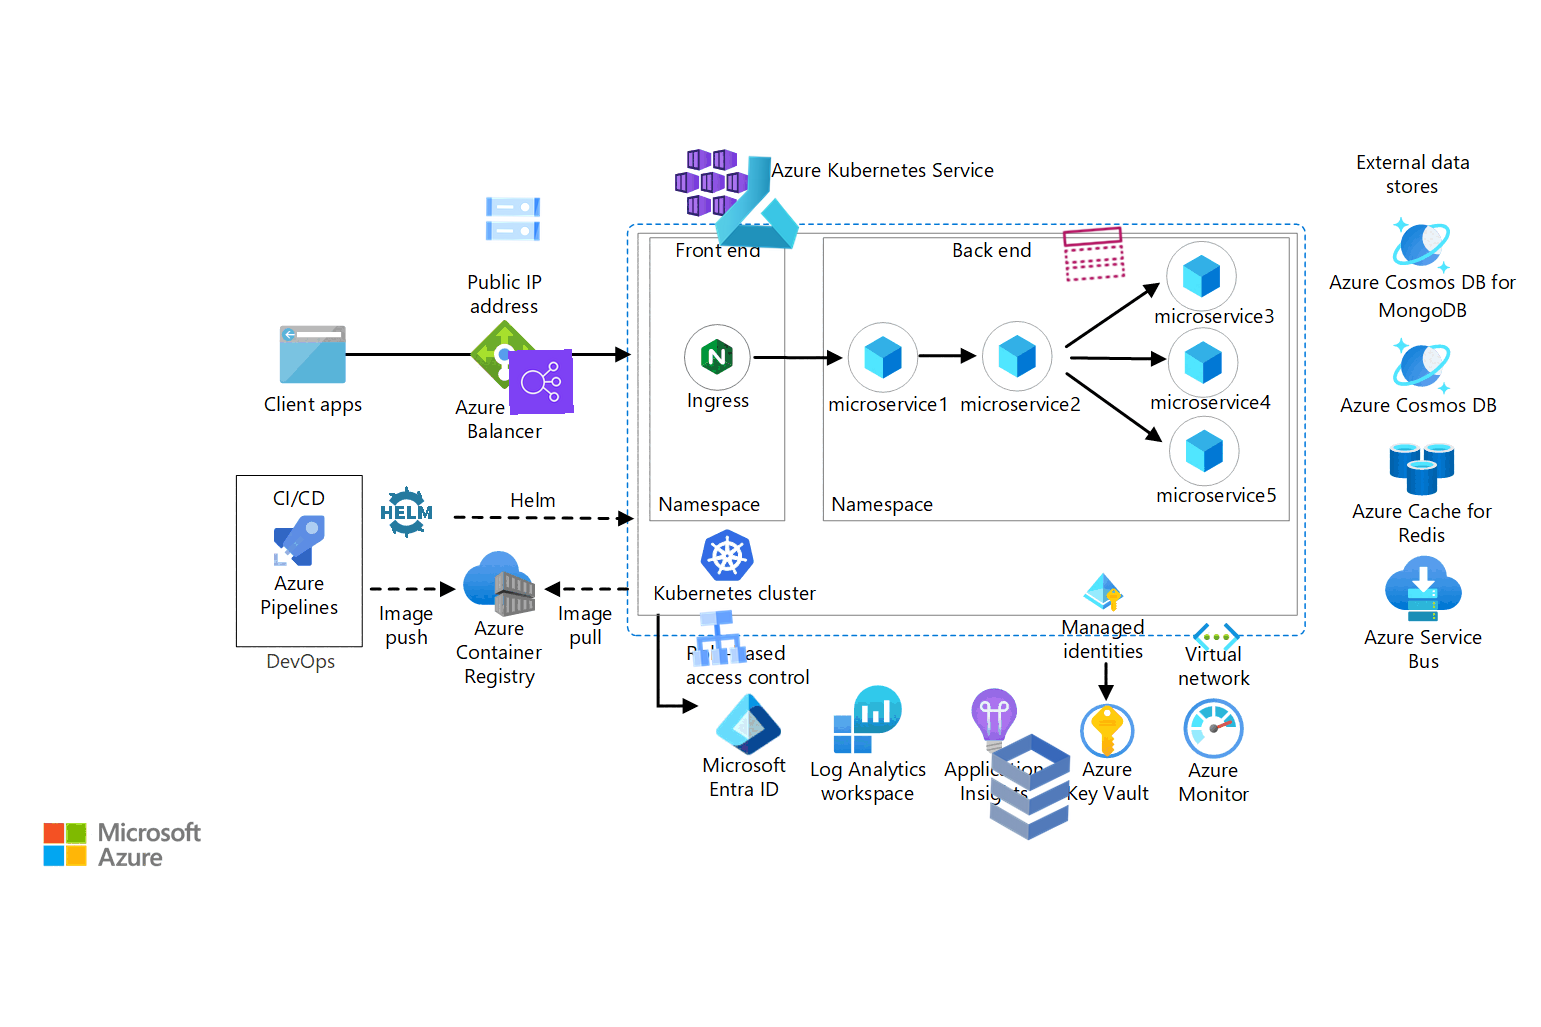aws_elastic_load_balancing: (508, 348, 574, 415)
aws_simple_notification_service_topic: (1059, 219, 1129, 289)
azure_machine_learning: (707, 151, 809, 253)
gcp_cloud_load_balancing: (683, 603, 753, 673)
gcp_cloud_sql: (964, 720, 1096, 854)
gcp_cloud_storage: (480, 186, 547, 252)
